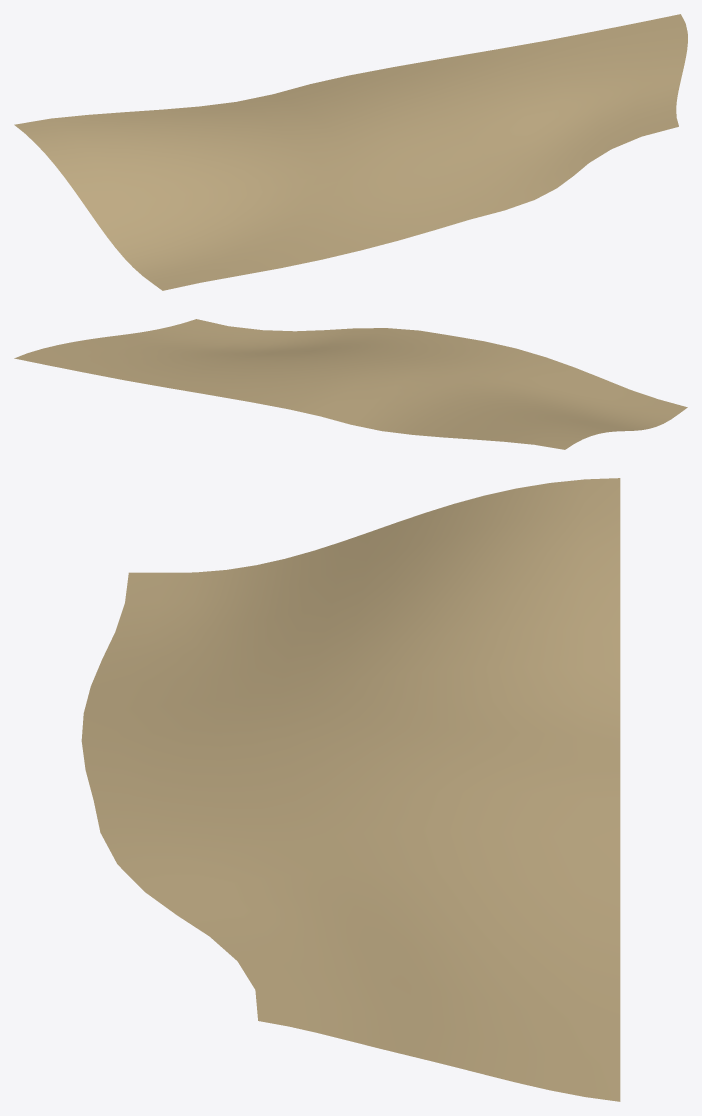
File: rubble.fbx
3 renders of one model, top to bottom at view 1: azimuth 30°, elevation 25°; view 2: azimuth 150°, elevation 25°; view 3: azimuth 270°, elevation 25°, orthographic. The views are drawn at different scales.
Parts seen in each view (by area): view 1: Plane001; view 2: Plane001; view 3: Plane001.
Boxes of the visible parts, x1,y1,x2,y2 form: Plane001: (14, 14, 687, 290); Plane001: (14, 319, 687, 449); Plane001: (81, 478, 620, 1101).
Bounding box in the file's own units: 126 × 10.36 × 53.36.
